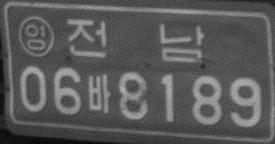0: (18, 64, 47, 113)
1: (154, 74, 183, 122)
6: (52, 66, 81, 116)
8: (190, 75, 223, 126), (117, 71, 149, 121)
9: (229, 76, 262, 128)
바: (87, 73, 112, 113)
영: (17, 15, 55, 58)
전남_D: (66, 17, 204, 64)
